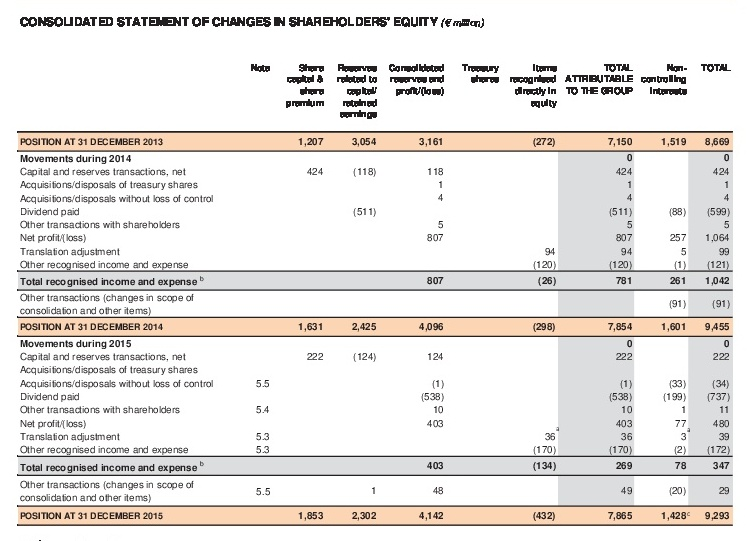table: (0, 0, 749, 541)
